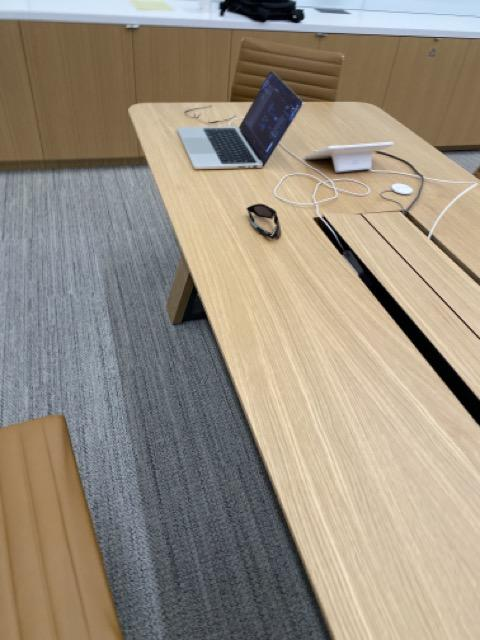Sunglasses: (243, 202, 284, 241)
